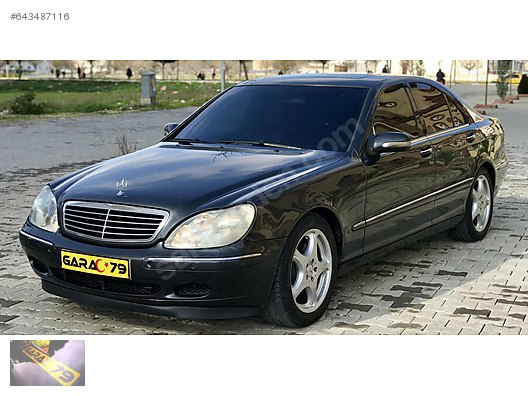mercedes: (16, 74, 512, 332)
